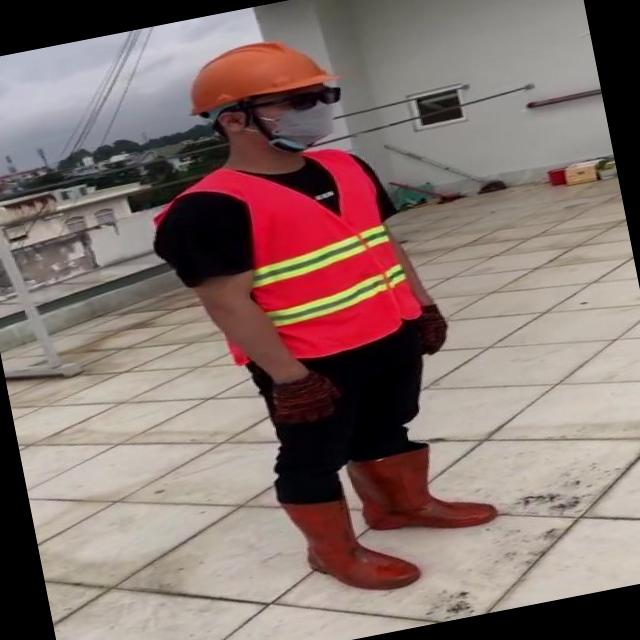boots: (274, 476, 424, 609), (349, 436, 496, 546)
gloves: (232, 343, 359, 463), (387, 286, 483, 370)
helmet: (168, 24, 349, 122)
vest: (146, 135, 425, 384)
